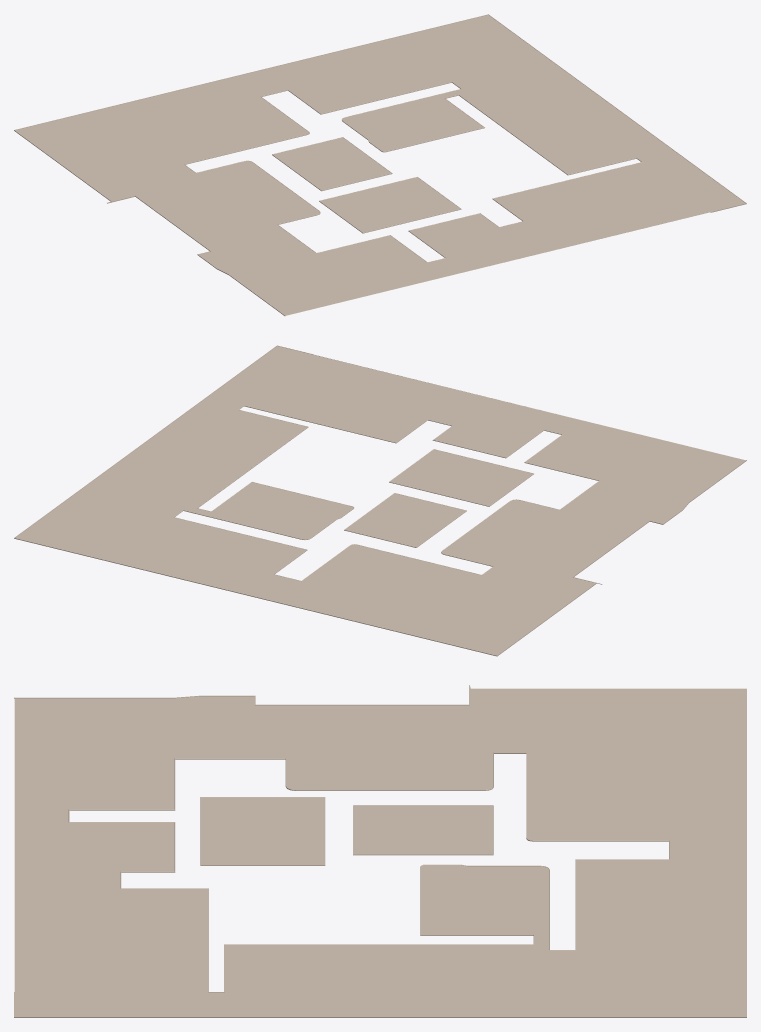
Rendered from suelo_parque_acera.fbx.
3 renders of one model, top to bottom at view 1: azimuth 30°, elevation 25°; view 2: azimuth 150°, elevation 25°; view 3: azimuth 270°, elevation 25°, orthographic. The views are drawn at different scales.
Parts seen in each view (by area): view 1: suelo_acera_parque; view 2: suelo_acera_parque; view 3: suelo_acera_parque.
Boxes of the visible parts, <box> form: suelo_acera_parque: <box>14,14,746,315</box>; suelo_acera_parque: <box>14,345,746,656</box>; suelo_acera_parque: <box>14,685,746,1017</box>.
Size of the model in its own units: 235 by 0.3 by 219.
